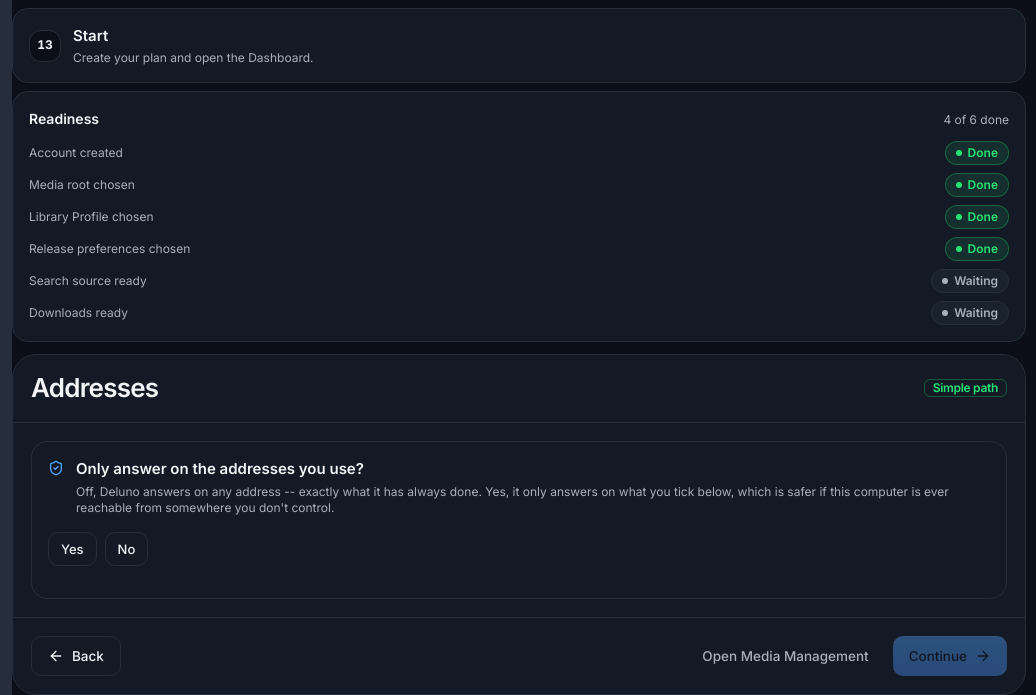
it: every Yes/No question starts unanswered on a fresh install (#1245) › Only answer on the addresses you use?: neither answer is chosen and Continue waits for one
(page scrolled)
Check: the button "Continue" is disabled, box x1=893 y1=636 x2=1007 y2=676
Click the radio button with aria-label "Only answer on the addresses you use? No".
click(126, 550)  # box x1=105 y1=532 x2=148 y2=566
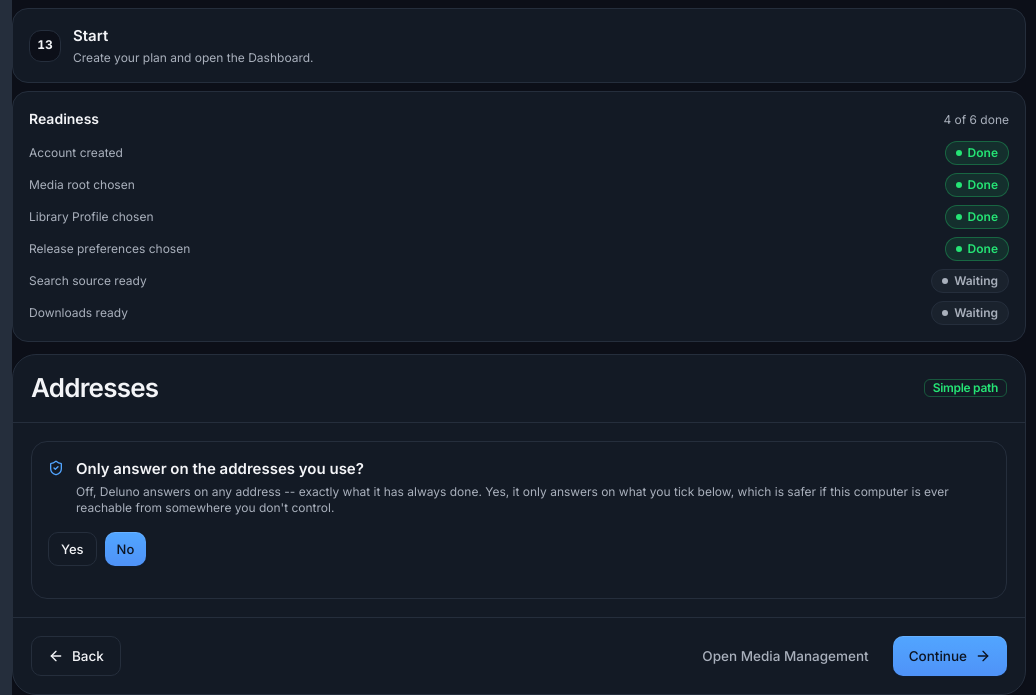
Check: the button "Continue" is enabled, box x1=893 y1=636 x2=1007 y2=676
